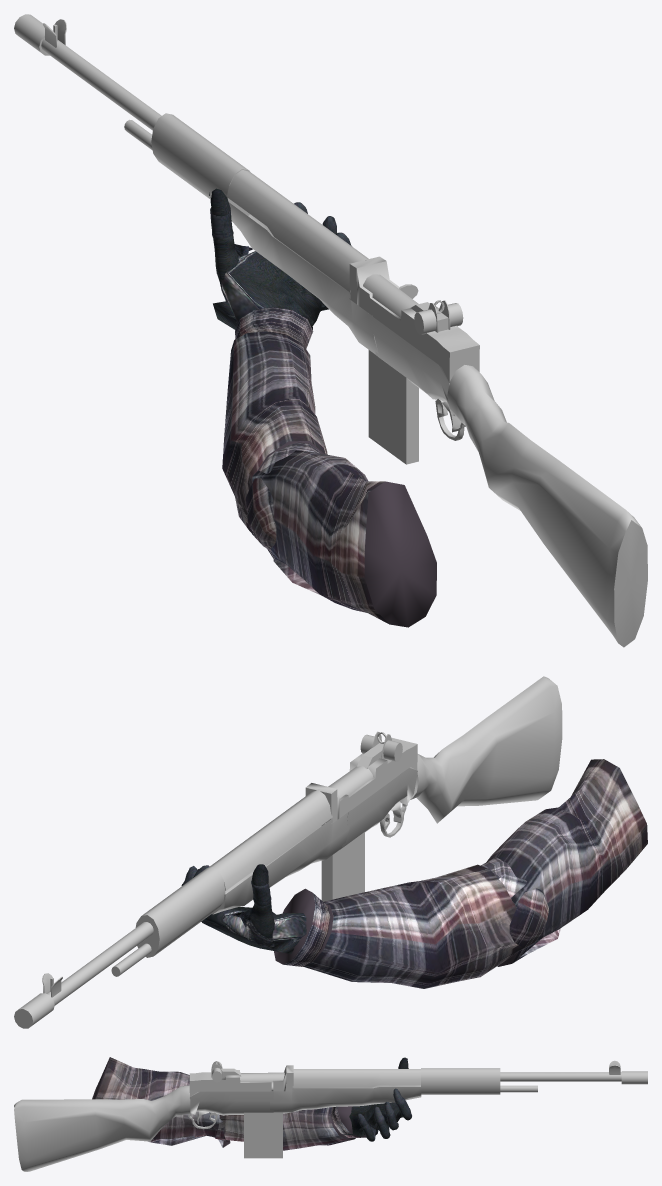
The model's file is m14_ads.fbx.
The picture shows the model from 3 angles, top to bottom: view 1: azimuth 30°, elevation 25°; view 2: azimuth 150°, elevation 25°; view 3: azimuth 270°, elevation 25°; orthographic projection. The views are drawn at different scales.
Visible parts, largest first — view 1: larm, m14_stock, m14_grip, m14_body, lhand, m14_clip, m14_barrels, m14_bolt, m14_rearsight; view 2: larm, m14_stock, m14_grip, m14_body, lhand, m14_barrels, m14_clip, m14_rearsight, m14_bolt; view 3: m14_stock, larm, m14_grip, m14_body, lhand, m14_barrels, m14_clip, m14_bolt, m14_rearsight, m14_trigger.
Boxes of the visible parts, x1=… form: larm: x1=222, y1=307, x2=436, y2=627; m14_stock: x1=447, y1=365, x2=647, y2=647; m14_grip: x1=151, y1=113, x2=378, y2=354; m14_body: x1=349, y1=256, x2=479, y2=416; lhand: x1=209, y1=188, x2=351, y2=329; m14_clip: x1=368, y1=350, x2=418, y2=464; m14_barrels: x1=14, y1=14, x2=161, y2=150; m14_bolt: x1=363, y1=274, x2=418, y2=317; m14_rearsight: x1=411, y1=300, x2=463, y2=334; larm: x1=274, y1=759, x2=647, y2=988; m14_stock: x1=410, y1=676, x2=562, y2=823; m14_grip: x1=135, y1=789, x2=350, y2=957; m14_body: x1=305, y1=738, x2=417, y2=849; lhand: x1=181, y1=864, x2=306, y2=953; m14_barrels: x1=14, y1=922, x2=153, y2=1028; m14_clip: x1=321, y1=823, x2=364, y2=901; m14_rearsight: x1=357, y1=731, x2=402, y2=768; m14_bolt: x1=328, y1=766, x2=373, y2=798; m14_stock: x1=14, y1=1085, x2=190, y2=1171; larm: x1=92, y1=1057, x2=366, y2=1150; m14_grip: x1=270, y1=1068, x2=500, y2=1113; m14_body: x1=189, y1=1065, x2=293, y2=1115; lhand: x1=343, y1=1057, x2=411, y2=1141; m14_barrels: x1=500, y1=1071, x2=647, y2=1092; m14_clip: x1=244, y1=1112, x2=282, y2=1158; m14_bolt: x1=240, y1=1072, x2=284, y2=1091; m14_rearsight: x1=211, y1=1061, x2=240, y2=1082; m14_trigger: x1=188, y1=1111, x2=217, y2=1129.
Bounding box in the file's own units: 11.13 × 9.25 × 43.75.
